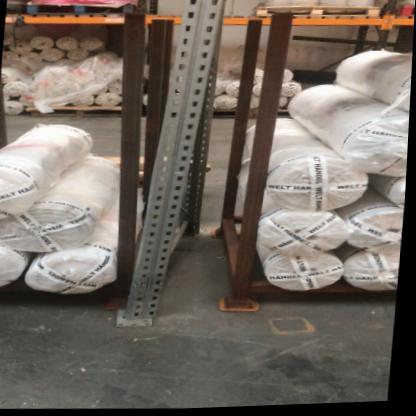vertical_damage: (113, 266, 184, 333)
